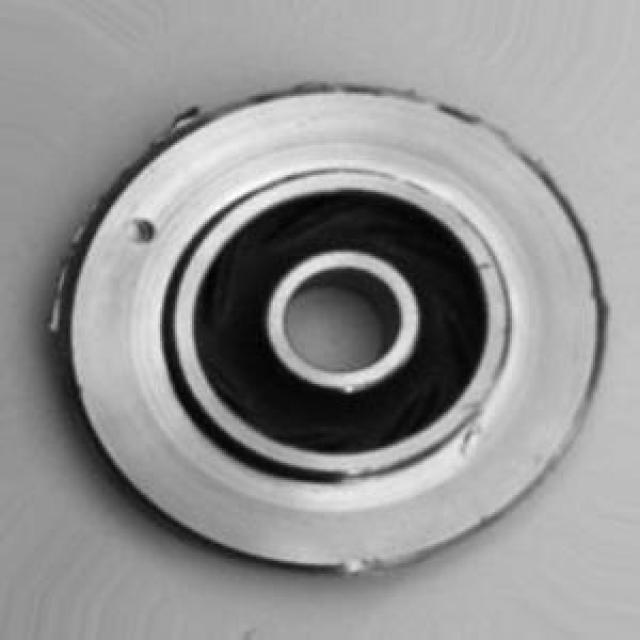Defect: (124, 218, 167, 246)
